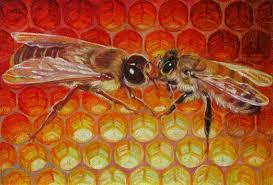Queen-Bee: (2, 32, 156, 138)
worker-bee: (156, 48, 272, 145)
